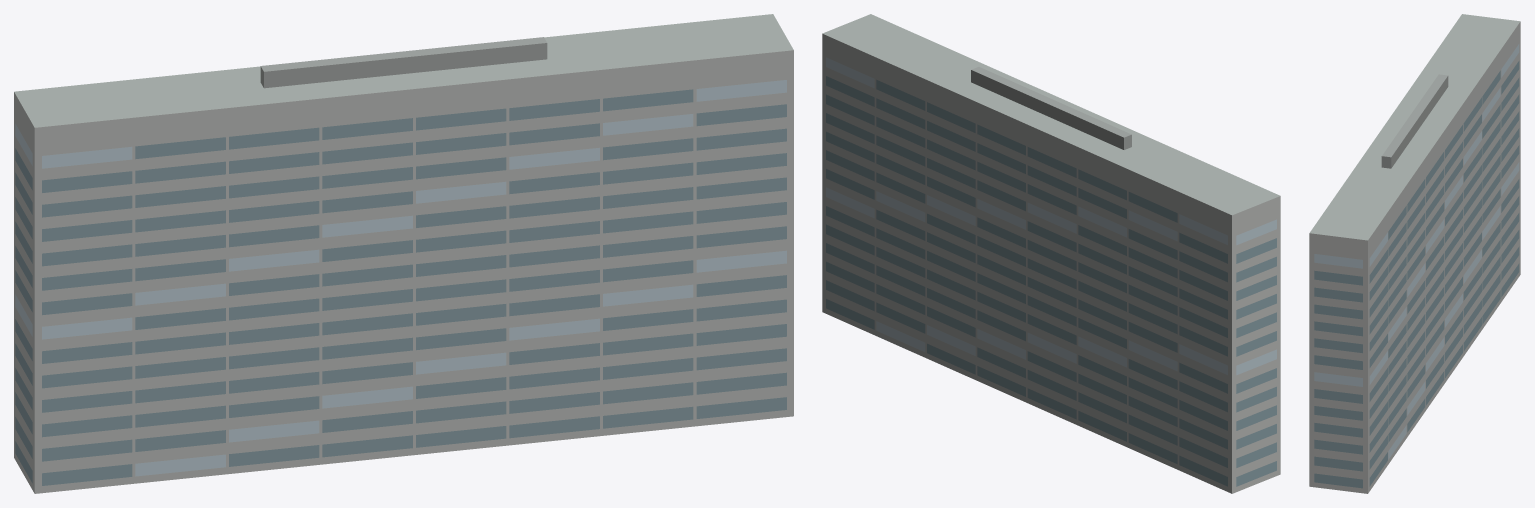
Rendered from fallback-olympic-park-foreon-208.glb.
The picture shows the model from 3 angles, left to right: view 1: azimuth 30°, elevation 25°; view 2: azimuth 150°, elevation 25°; view 3: azimuth 270°, elevation 25°; orthographic projection. The views are drawn at different scales.
Parts seen in each view (by area): view 1: fallback-olympic-park-foreon-208; view 2: fallback-olympic-park-foreon-208; view 3: fallback-olympic-park-foreon-208.
Boxes of the visible parts, x1,y1,x2,y2 form: fallback-olympic-park-foreon-208: [14, 14, 793, 493]; fallback-olympic-park-foreon-208: [822, 14, 1280, 493]; fallback-olympic-park-foreon-208: [1309, 14, 1520, 493].
Size of the model in its own units: 87.69 by 47.81 by 34.55.
